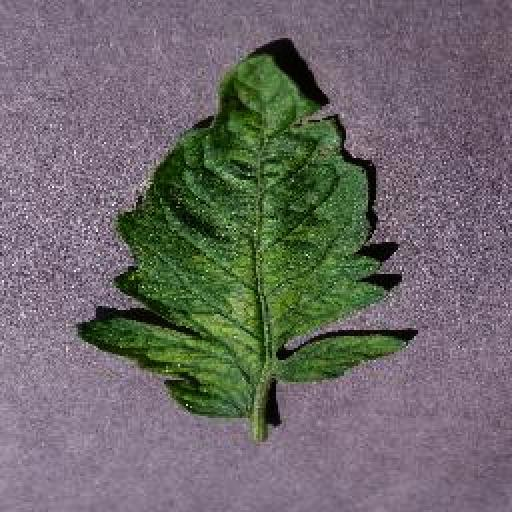disease_tomato: (78, 46, 412, 418)
